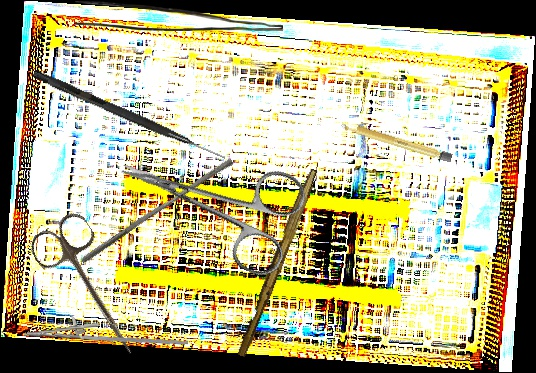Hook Surgical: (31, 69, 228, 162)
Iris Scissors: (103, 115, 313, 282), (24, 208, 161, 369)
Needle Holder: (22, 308, 189, 357)
Pusher: (80, 152, 234, 270)
Scalpel Handle: (235, 165, 319, 360), (340, 120, 453, 163)
Tissue Forceps: (75, 1, 283, 31)
